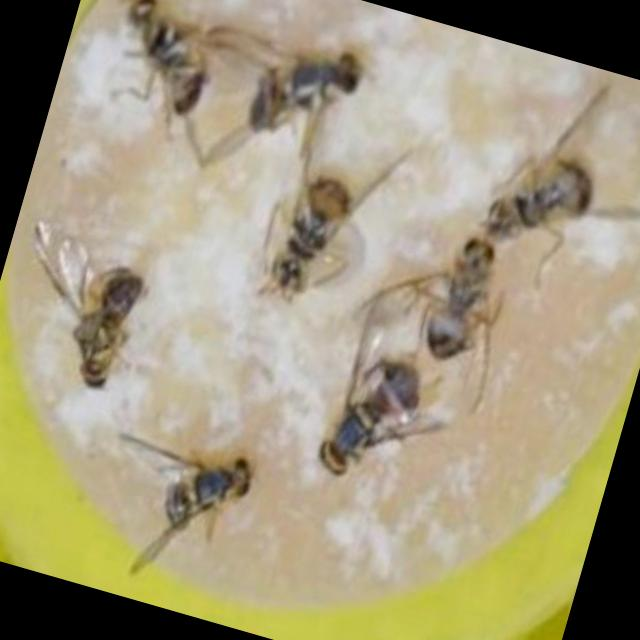melon fly: (358, 190, 550, 398), (107, 402, 300, 604), (454, 87, 640, 288), (221, 0, 383, 181), (238, 146, 392, 333), (71, 0, 248, 158), (298, 343, 459, 512), (36, 262, 180, 433)
